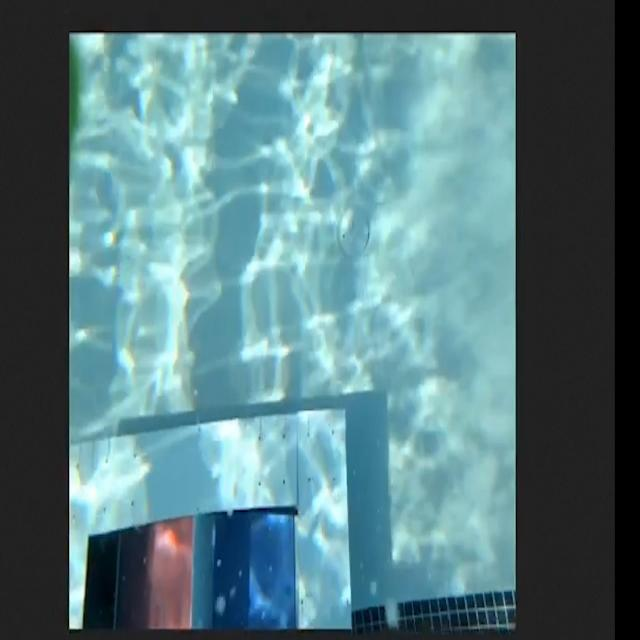Bin: (67, 396, 358, 640)
